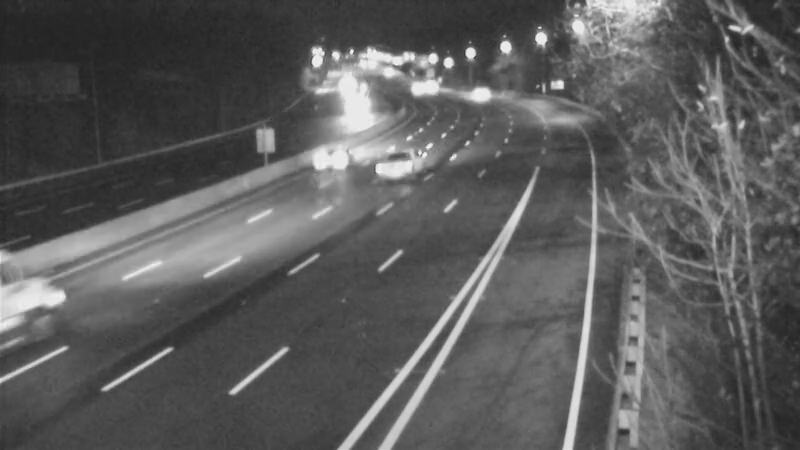vehicle: (365, 121, 445, 201), (291, 120, 371, 200), (390, 63, 440, 113), (456, 69, 506, 119), (329, 88, 379, 138)
